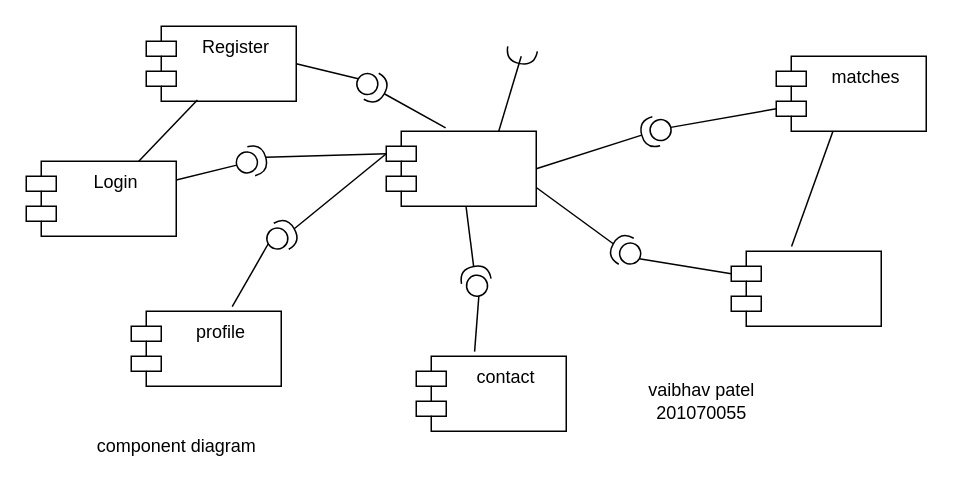
Image size: 953x492. Some labels were removed from this diagram. The box of each missing label's shape, as (x1, y1, x2, y2) in pixels:
Home: (385, 130, 536, 206)
predictions: (730, 250, 881, 326)
